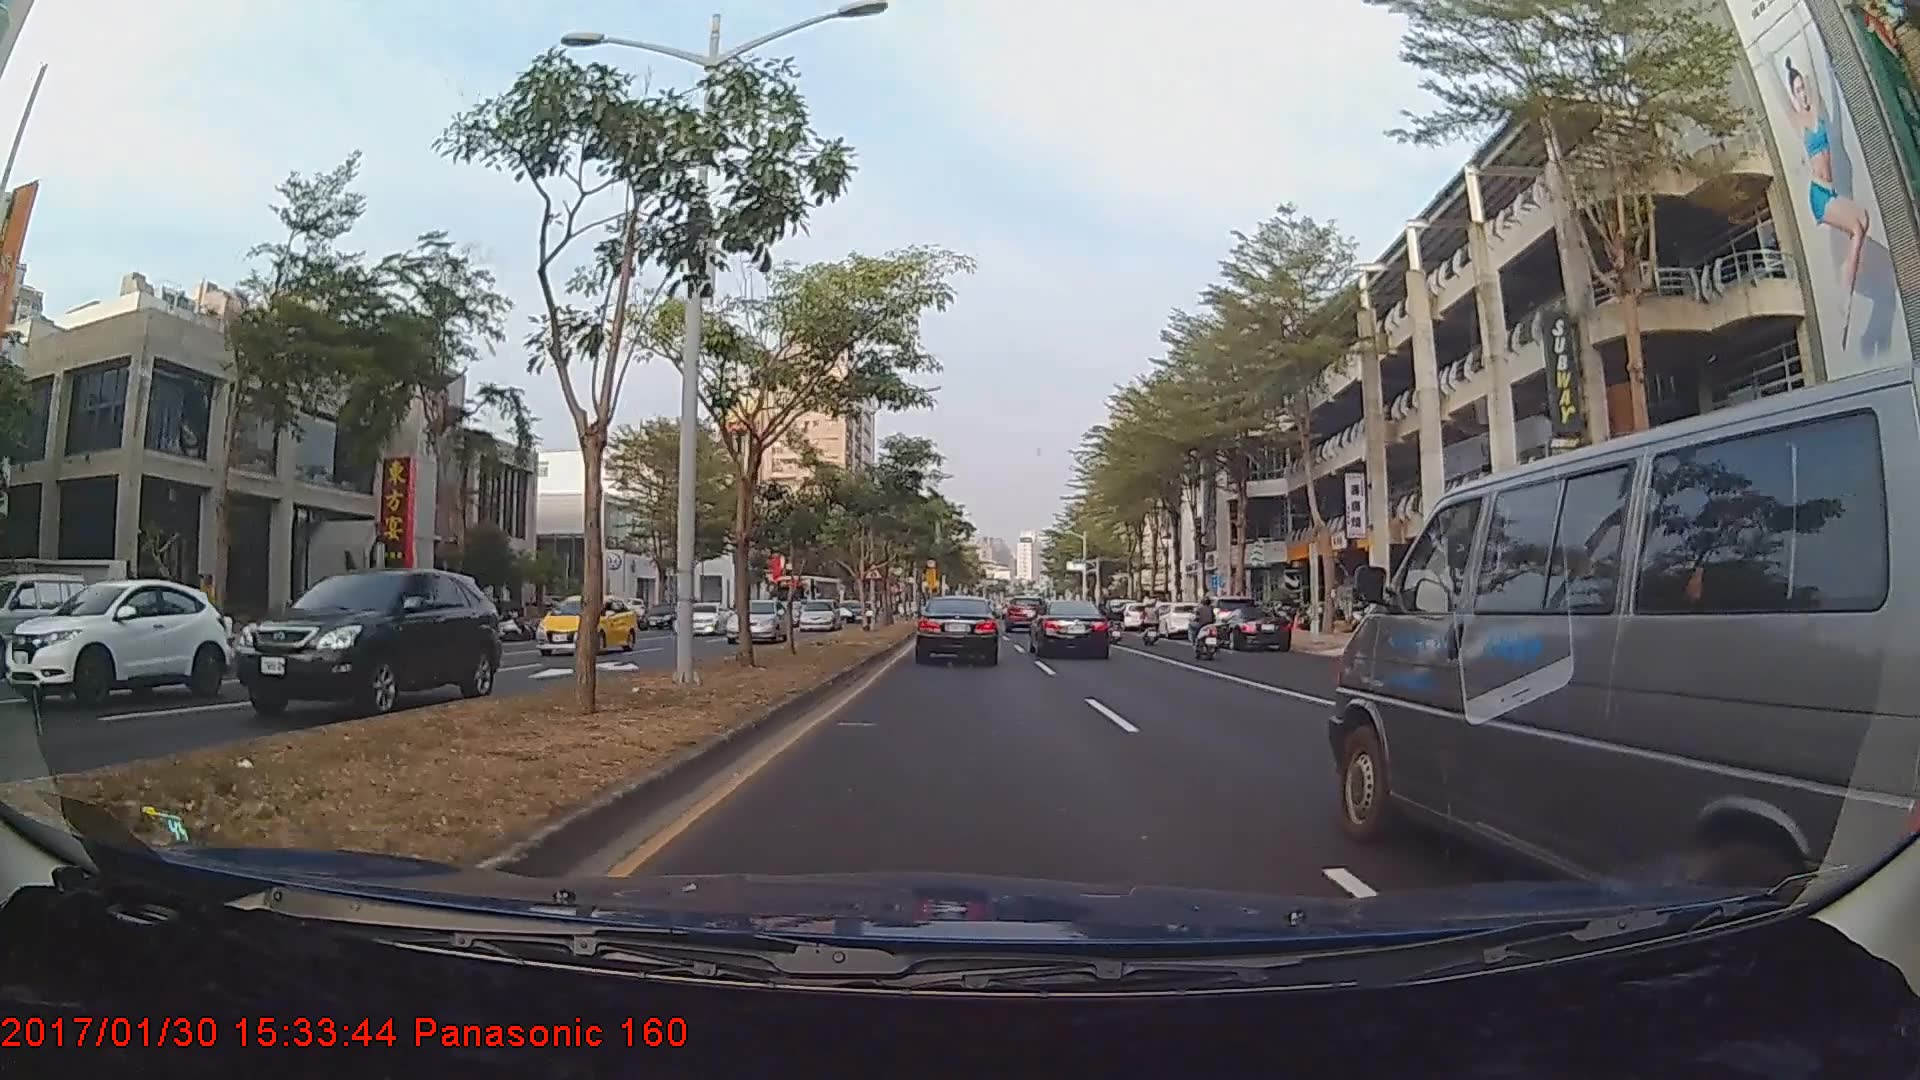rider: (1187, 589, 1227, 665), (1138, 588, 1166, 644)
vehicle: (1316, 405, 1903, 899), (227, 566, 499, 718), (0, 578, 229, 704), (0, 573, 94, 678), (535, 592, 635, 656), (916, 593, 1001, 666), (1030, 598, 1111, 660), (771, 572, 842, 625), (1186, 594, 1257, 644), (1212, 606, 1290, 652), (723, 596, 789, 645), (1149, 602, 1206, 638), (672, 599, 728, 636), (798, 594, 841, 630), (1006, 591, 1045, 627)
